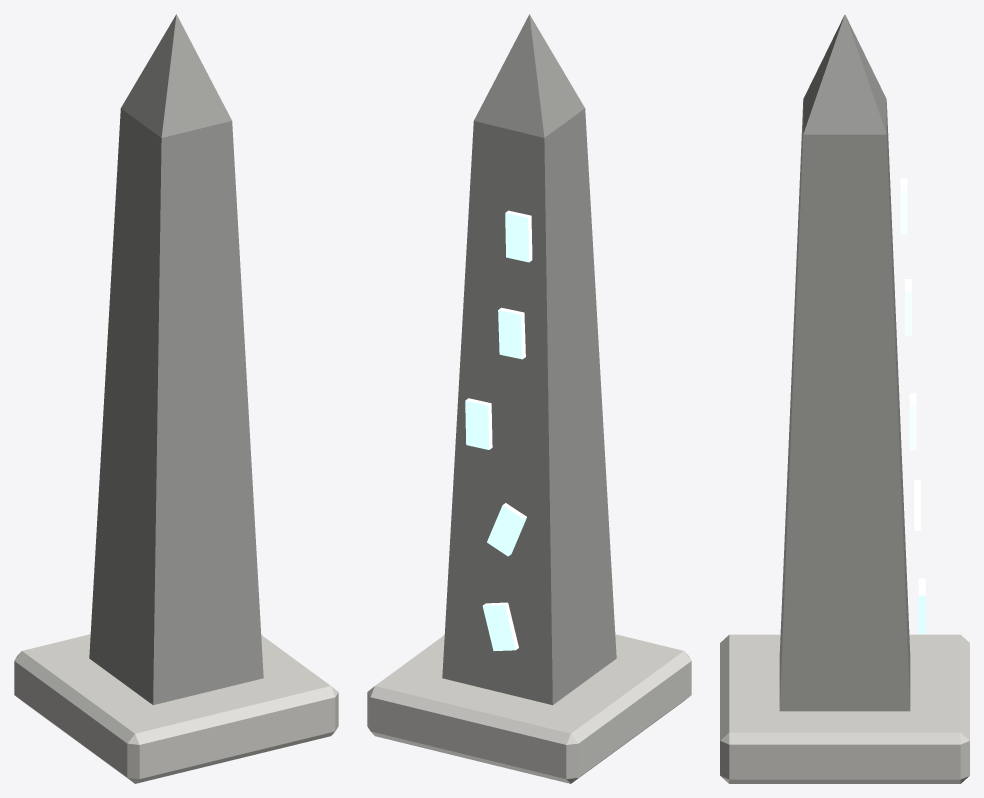
Rendered from Rune_Obelisk.glb.
3 views of the same model, side by side, from view 1: azimuth 30°, elevation 25°; view 2: azimuth 150°, elevation 25°; view 3: azimuth 270°, elevation 25° (orthographic). The views are drawn at different scales.
Visible parts, largest first — view 1: Rune_Obelisk; view 2: Rune_Obelisk; view 3: Rune_Obelisk.
Part boxes in pixels (left/top/right/bottom): Rune_Obelisk: left=14, top=14, right=338, bottom=783; Rune_Obelisk: left=367, top=14, right=691, bottom=783; Rune_Obelisk: left=720, top=14, right=969, bottom=783.
Bounding box in the file's own units: 1.1 × 3.5 × 1.1.
